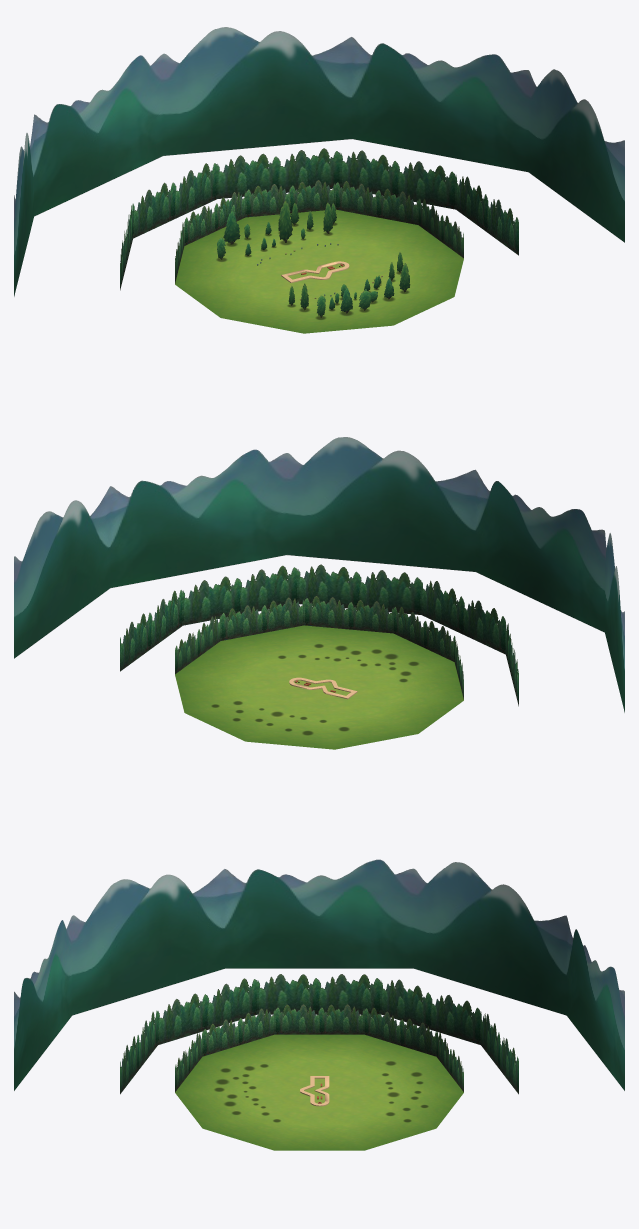
The model's file is hole13.glb.
The picture shows the model from 3 angles, top to bottom: view 1: azimuth 30°, elevation 25°; view 2: azimuth 150°, elevation 25°; view 3: azimuth 270°, elevation 25°; orthographic projection. The views are drawn at different scales.
Parts seen in each view (by area): view 1: background1, grass_base, background3, background2; view 2: background1, grass_base, background3, background2; view 3: background1, grass_base, background3, background2.
Part boxes in pixels (x1,y1,x2,y2): background1: (14, 27, 624, 296); grass_base: (175, 209, 463, 333); background3: (120, 148, 518, 290); background2: (175, 180, 463, 283); background1: (14, 437, 624, 712); grass_base: (175, 625, 463, 749); background3: (120, 564, 518, 706); background2: (175, 596, 463, 699); background1: (14, 859, 624, 1090); grass_base: (175, 1034, 463, 1150); background3: (120, 974, 518, 1094); background2: (175, 1004, 463, 1091).
Size of what is drawn, in the model's own units: 330 by 78.81 by 347.
10 materials, 9 textured.
